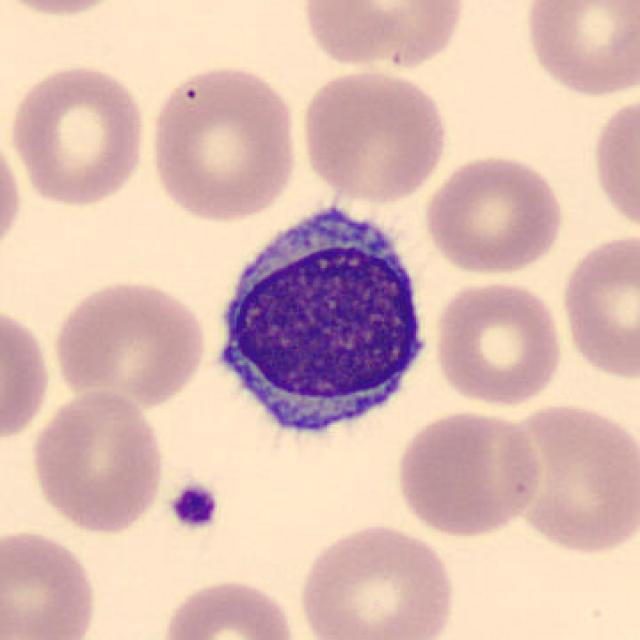lymphocyte: (216, 208, 419, 431)
platelets: (170, 471, 218, 531)
rbc: (152, 61, 296, 222), (500, 399, 640, 552), (52, 292, 200, 405), (38, 393, 160, 528), (421, 157, 568, 269), (22, 72, 147, 202), (303, 532, 450, 640), (393, 417, 533, 530), (313, 68, 435, 196), (434, 293, 554, 397), (0, 527, 108, 640), (521, 0, 640, 97), (564, 239, 640, 377), (166, 578, 299, 640), (0, 308, 54, 451), (358, 2, 468, 63), (294, 0, 399, 60), (591, 105, 640, 227), (0, 139, 25, 247), (16, 0, 107, 19)
